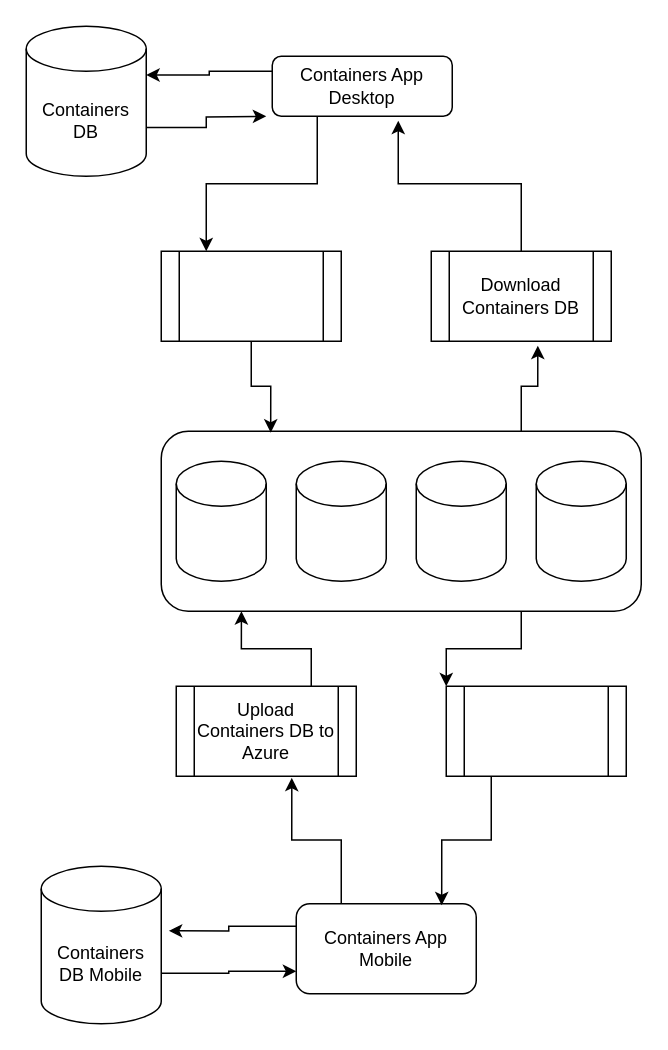
This 668x1050 diagram has some shape labels left out. Each missing label, with the box of its shape:
Azure Blob Storage: (160, 430, 641, 611)
Download Containers DB from Azure: (445, 685, 626, 776)
Upload Containers DB: (160, 250, 341, 341)
